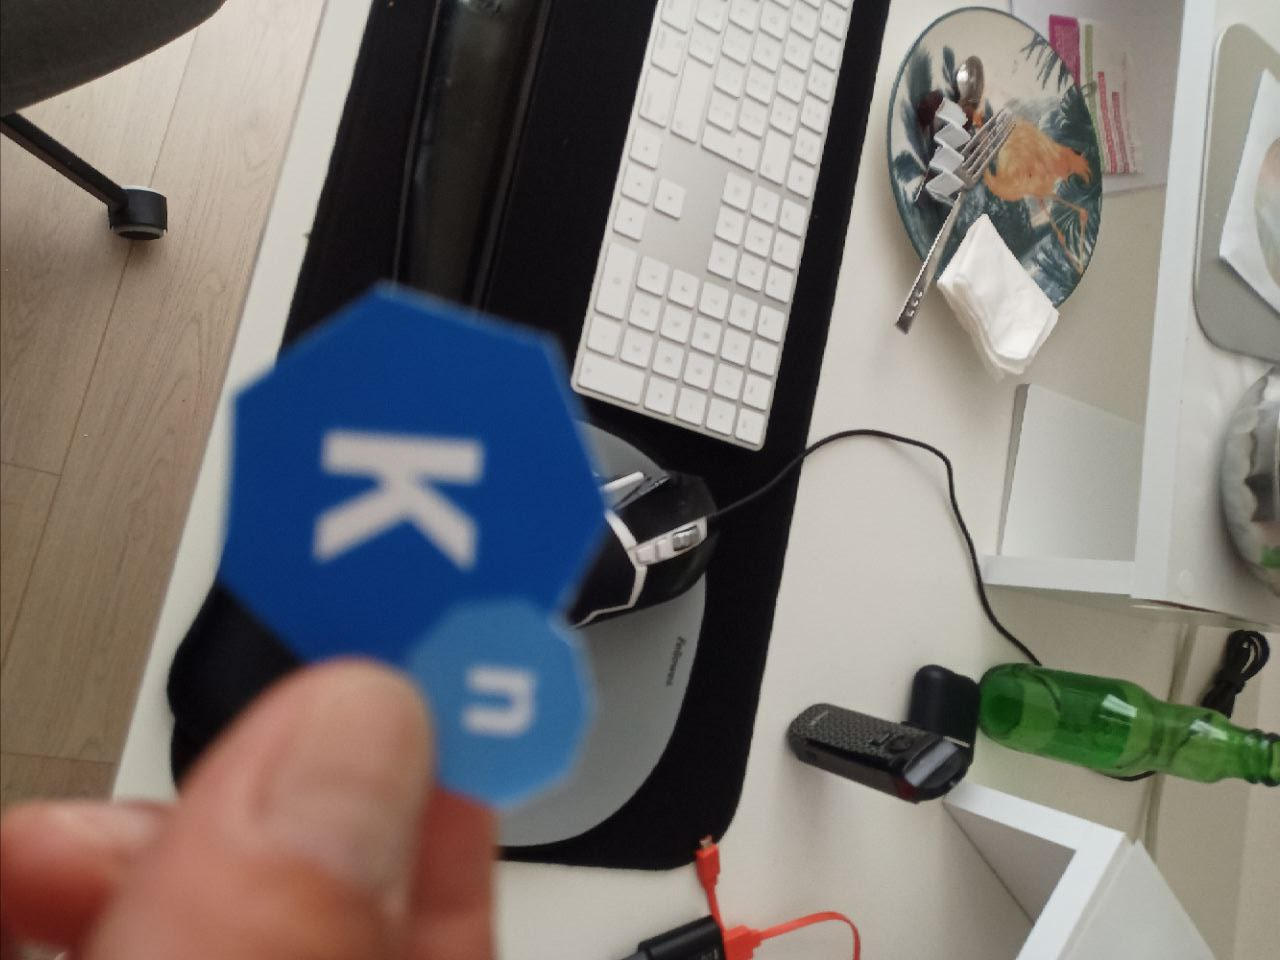knative: (223, 276, 609, 815)
